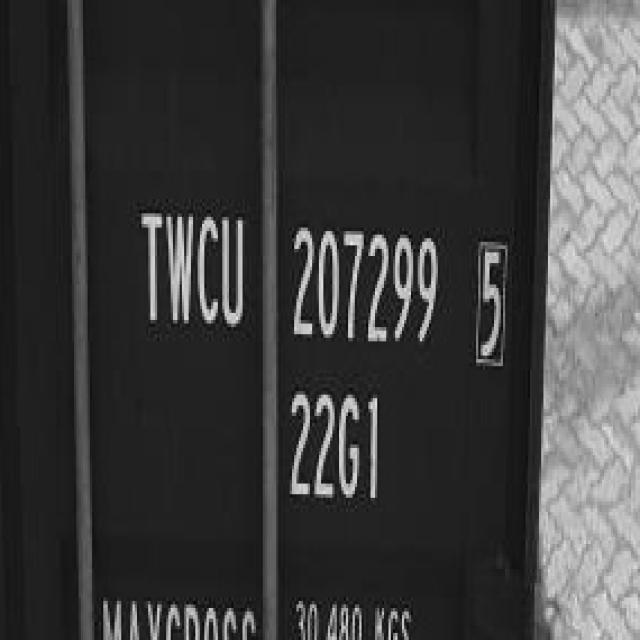dv: (470, 216, 513, 380)
owner: (135, 194, 253, 338)
serial: (288, 212, 439, 360)
size: (284, 376, 388, 522)
